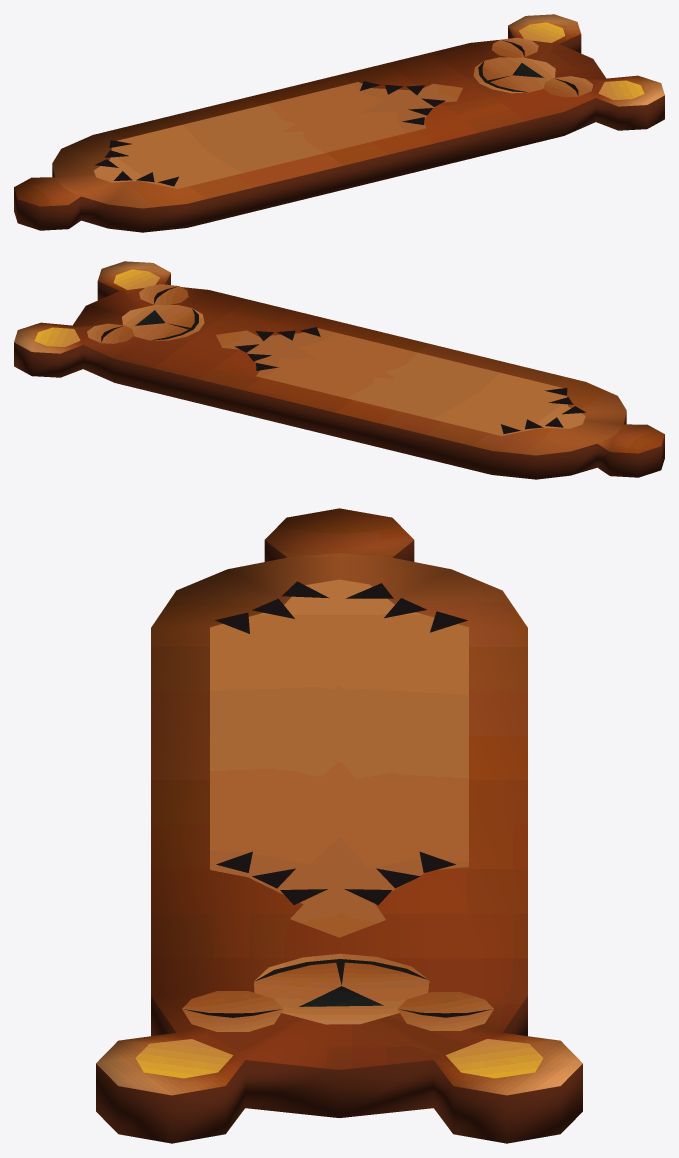
Rendered from Bearboard.glb.
3 renders of one model, top to bottom at view 1: azimuth 30°, elevation 25°; view 2: azimuth 150°, elevation 25°; view 3: azimuth 270°, elevation 25°, orthographic. The views are drawn at different scales.
Parts seen in each view (by area): view 1: Bearboard; view 2: Bearboard; view 3: Bearboard.
Part boxes in pixels (left/top/right/bottom): Bearboard: left=14, top=14, right=664, bottom=232; Bearboard: left=14, top=261, right=664, bottom=479; Bearboard: left=96, top=508, right=582, bottom=1143.
Bounding box in the file's own units: 9.54 × 0.4421 × 3.34.
1 material, 1 textured.
